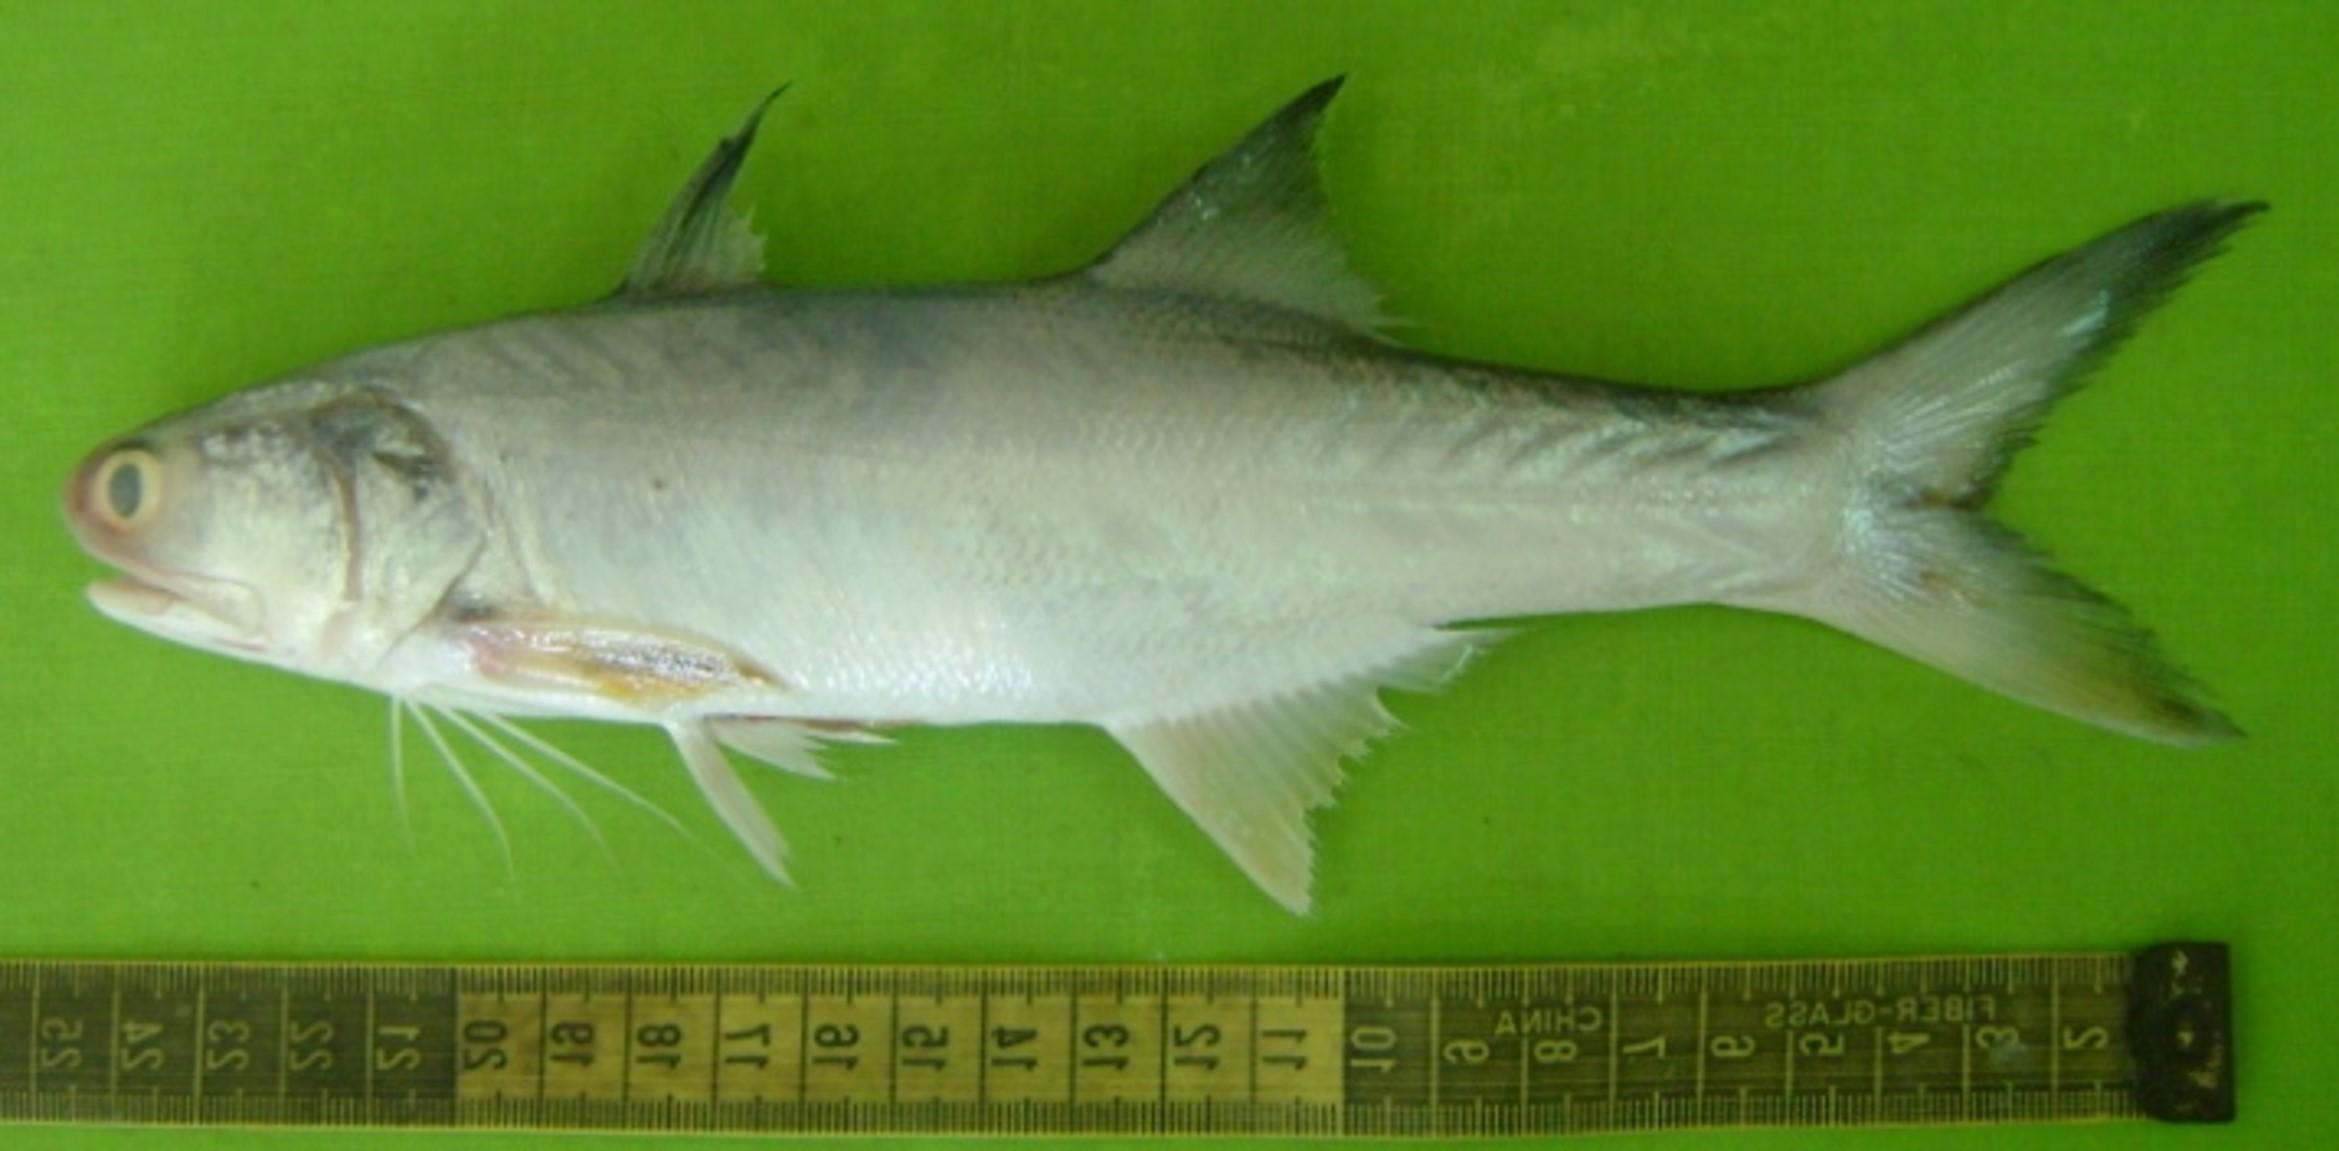Indo-Pacific Tarpon: (72, 70, 2254, 917)
